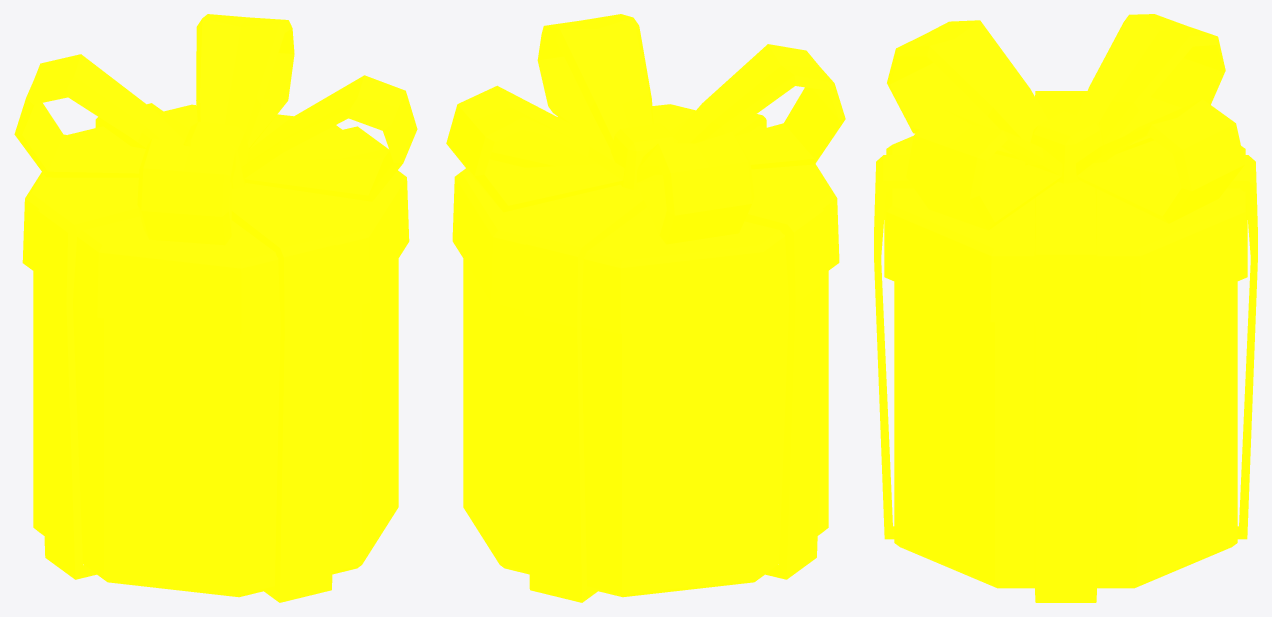
File: gift-christmas-cylinder-b.glb
3 renders of one model, left to right at view 1: azimuth 30°, elevation 25°; view 2: azimuth 150°, elevation 25°; view 3: azimuth 270°, elevation 25°, orthographic.
Visible parts, largest first — view 1: gift_christmas_cylinder_b; view 2: gift_christmas_cylinder_b; view 3: gift_christmas_cylinder_b.
Boxes of the visible parts, left/top/right/bottom form: gift_christmas_cylinder_b: left=14, top=14, right=417, bottom=602; gift_christmas_cylinder_b: left=446, top=14, right=845, bottom=602; gift_christmas_cylinder_b: left=874, top=14, right=1257, bottom=602.
Bounding box in the file's own units: 0.2762 × 0.3609 × 0.2762.
1 material, 1 textured.
